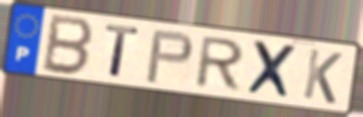B: (39, 12, 97, 79)
K: (300, 46, 345, 107)
P: (143, 29, 196, 86)
R: (192, 35, 248, 93)
T: (104, 22, 142, 80)
X: (244, 39, 300, 102)
